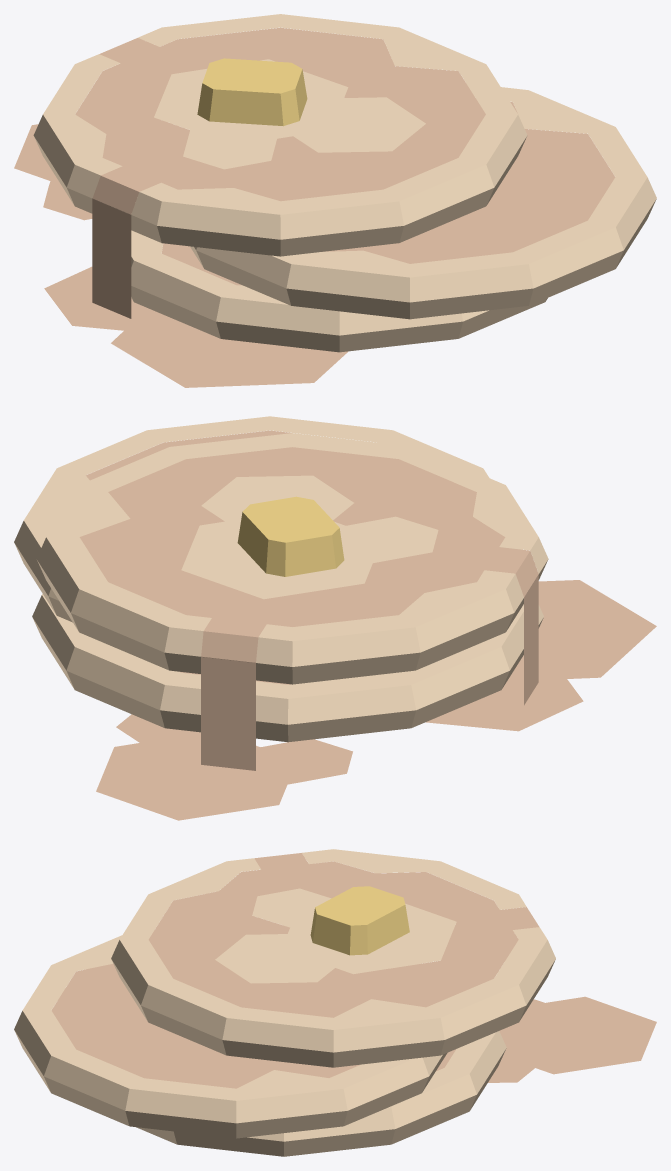
The model's file is pancakes.glb.
The picture shows the model from 3 angles, top to bottom: view 1: azimuth 30°, elevation 25°; view 2: azimuth 150°, elevation 25°; view 3: azimuth 270°, elevation 25°; orthographic projection. The views are drawn at different scales.
Parts seen in each view (by area): view 1: pancake (×3), pancakes, butter; view 2: pancake (×3), pancakes, butter; view 3: pancake (×3), pancakes, butter.
Boxes of the visible parts, x1=… form: pancake (×3): x1=33, y1=14, x2=656, y2=352; pancakes: x1=14, y1=124, x2=348, y2=387; butter: x1=197, y1=58, x2=307, y2=126; pancake (×3): x1=14, y1=416, x2=548, y2=770; pancakes: x1=96, y1=580, x2=656, y2=820; butter: x1=237, y1=496, x2=344, y2=576; pancake (×3): x1=14, y1=849, x2=555, y2=1156; pancakes: x1=60, y1=965, x2=656, y2=1082; butter: x1=310, y1=886, x2=409, y2=955.
Size of the model in its own units: 0.4355 by 0.1216 by 0.5039.
